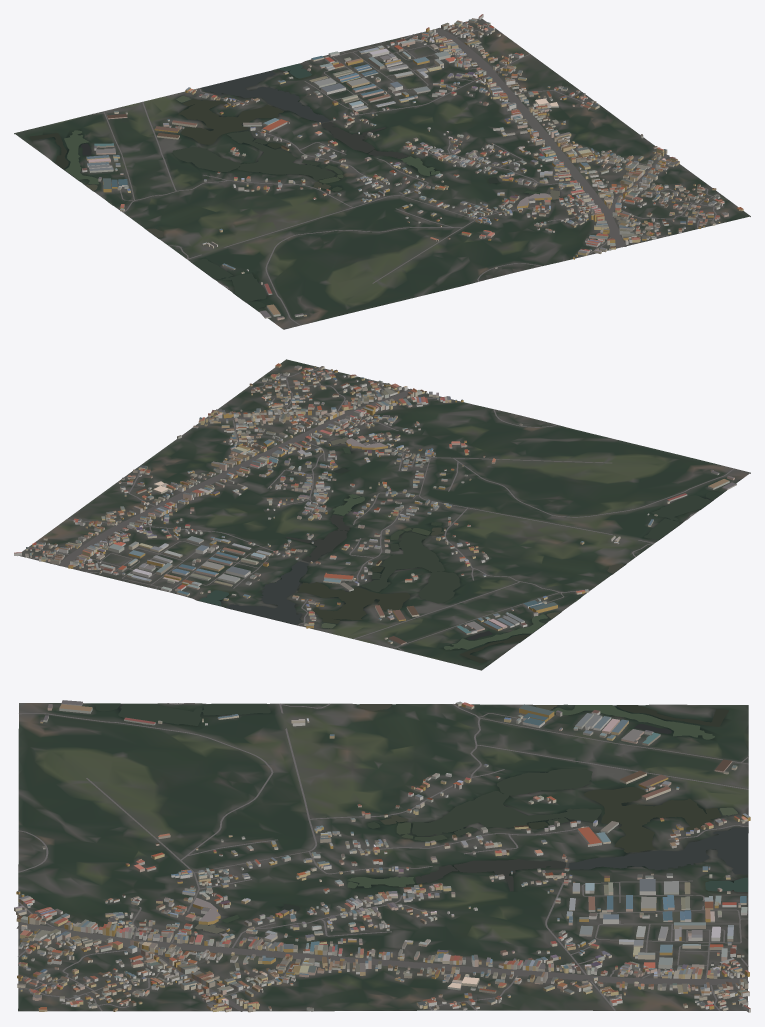
3 renders of one model, top to bottom at view 1: azimuth 30°, elevation 25°; view 2: azimuth 150°, elevation 25°; view 3: azimuth 270°, elevation 25°, orthographic. The views are drawn at different scales.
Visible parts, largest first — view 1: ground, buildings, water, roads; view 2: ground, buildings, water, roads; view 3: ground, buildings, water, roads.
Part boxes in pixels (<box>): ground: <box>14,18,750,329</box>; buildings: <box>82,14,743,320</box>; water: <box>29,63,559,310</box>; roads: <box>93,21,723,325</box>; ground: <box>19,359,750,670</box>; buildings: <box>14,363,736,644</box>; water: <box>199,437,723,663</box>; roads: <box>28,368,734,651</box>; ground: <box>18,703,748,1011</box>; buildings: <box>14,700,750,1012</box>; water: <box>91,703,747,933</box>; roads: <box>16,703,748,1011</box>.
Size of the model in its own units: 1416 by 25.02 by 1415.
